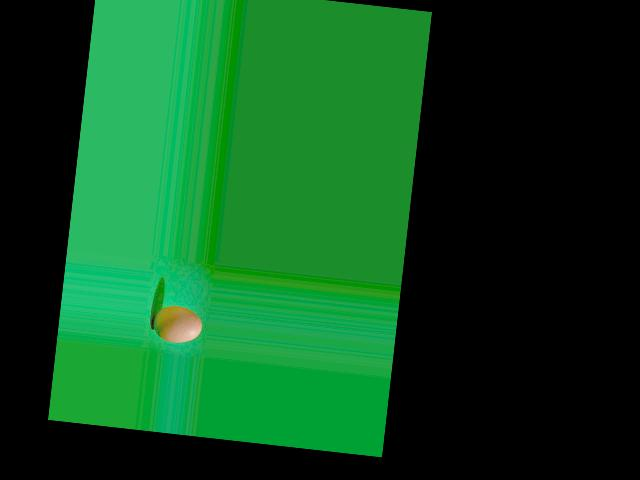egg: (151, 303, 203, 345)
